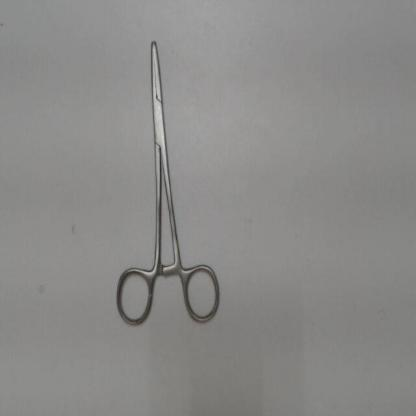Mayo Needle Holder: (110, 27, 228, 336)
